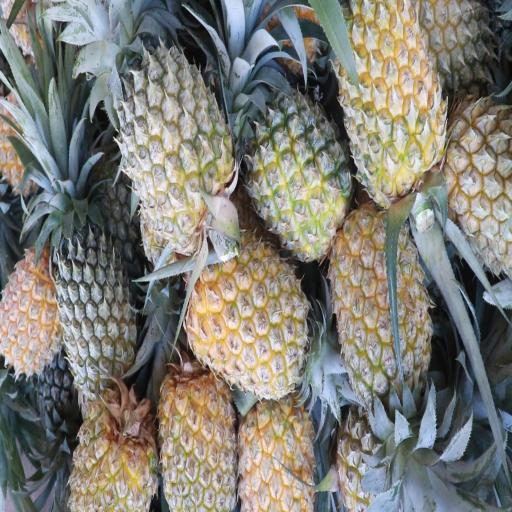------------------------------: (119, 38, 229, 235), (250, 89, 346, 253), (443, 94, 512, 260), (338, 403, 425, 512)
Pineapple - v8 v1: (342, 0, 450, 182), (333, 210, 436, 398), (192, 223, 312, 383), (159, 373, 234, 512), (70, 395, 155, 512), (239, 395, 318, 512), (0, 254, 67, 374)
